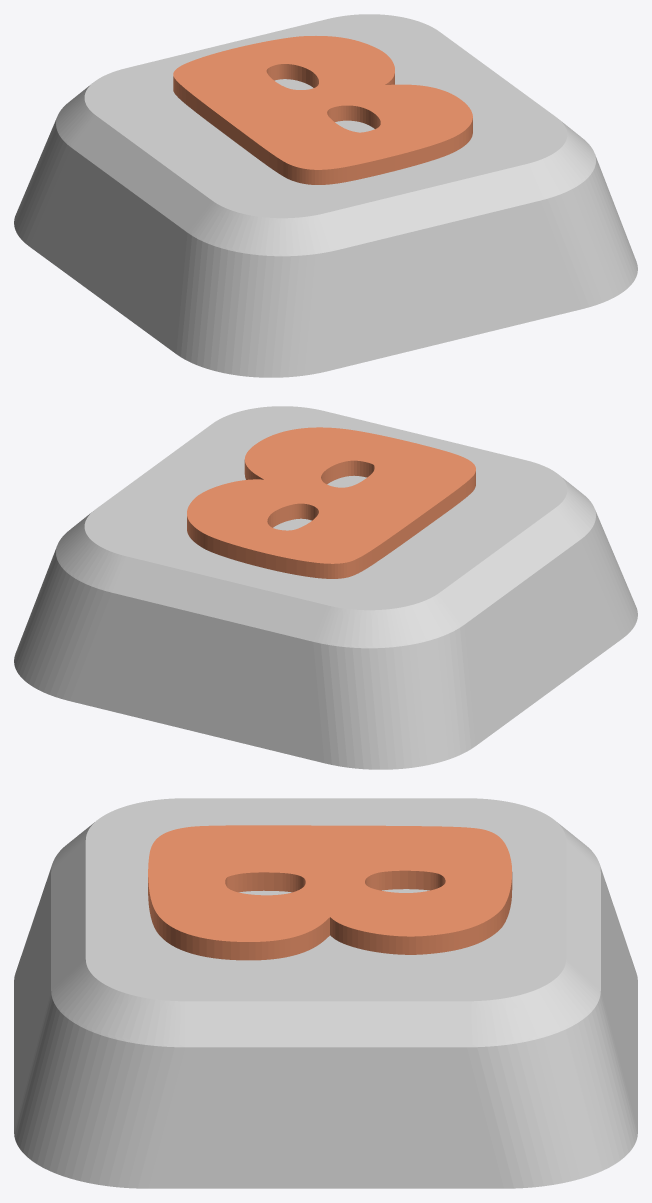
File: cap-B.glb
3 renders of one model, top to bottom at view 1: azimuth 30°, elevation 25°; view 2: azimuth 150°, elevation 25°; view 3: azimuth 270°, elevation 25°, orthographic. The views are drawn at different scales.
Parts seen in each view (by area): view 1: cap_0, glyph_1; view 2: cap_0, glyph_1; view 3: cap_0, glyph_1.
Boxes of the visible parts, x1,y1,x2,y2 form: cap_0: [14, 14, 637, 377]; glyph_1: [173, 36, 472, 184]; cap_0: [14, 406, 637, 769]; glyph_1: [187, 427, 475, 578]; cap_0: [14, 798, 637, 1188]; glyph_1: [148, 825, 512, 960].
Bounding box in the file's own units: 18 × 5.59 × 18.
